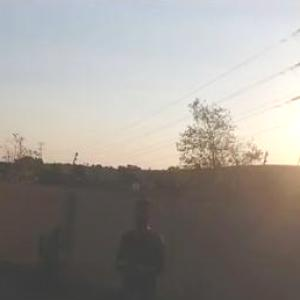follow: (106, 193, 170, 299)
